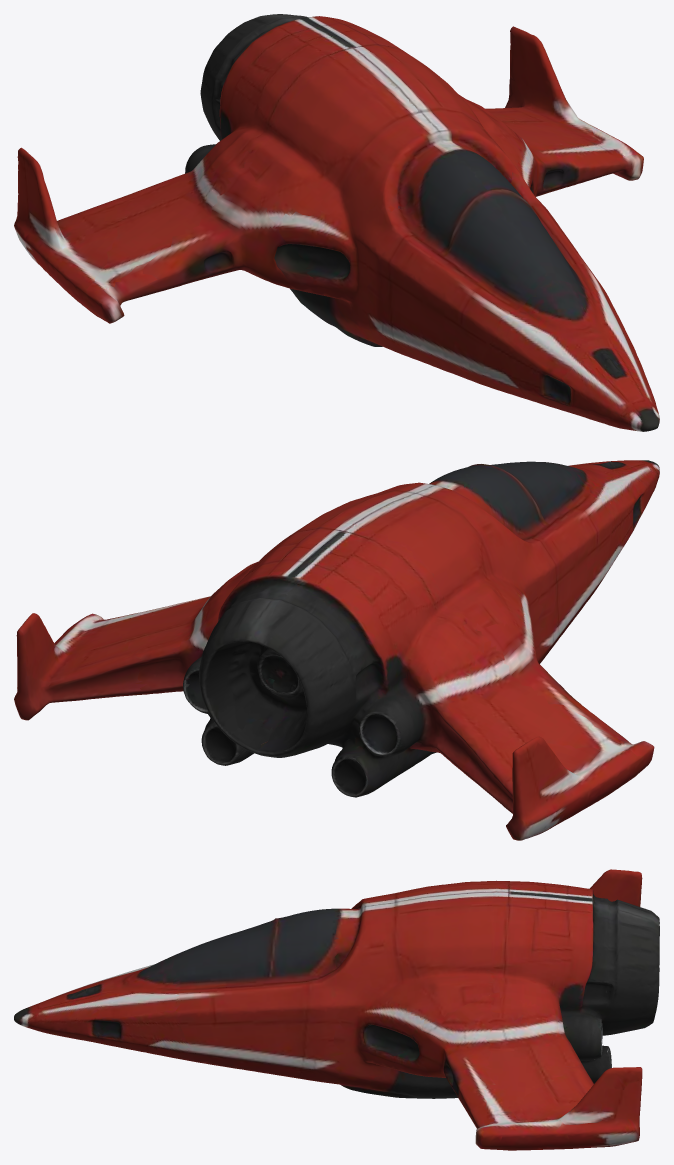
The model's file is futuristic_spacecraft.glb.
The picture shows the model from 3 angles, top to bottom: view 1: azimuth 30°, elevation 25°; view 2: azimuth 150°, elevation 25°; view 3: azimuth 270°, elevation 25°; orthographic projection. The views are drawn at different scales.
Visible parts, largest first — view 1: input; view 2: input; view 3: input.
Boxes of the visible parts, box(x1,y1,x2,y2) form: input: box(14, 14, 659, 431); input: box(14, 460, 659, 840); input: box(14, 869, 659, 1150).
Size of the model in its own units: 4.85 by 1.94 by 6.
1 material, 1 textured.
